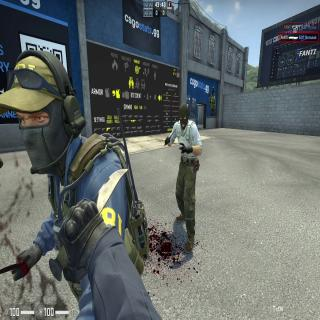CT-Body: (174, 104, 202, 250)
CT-Head: (12, 51, 75, 177)
T-Head: (179, 105, 189, 129)
